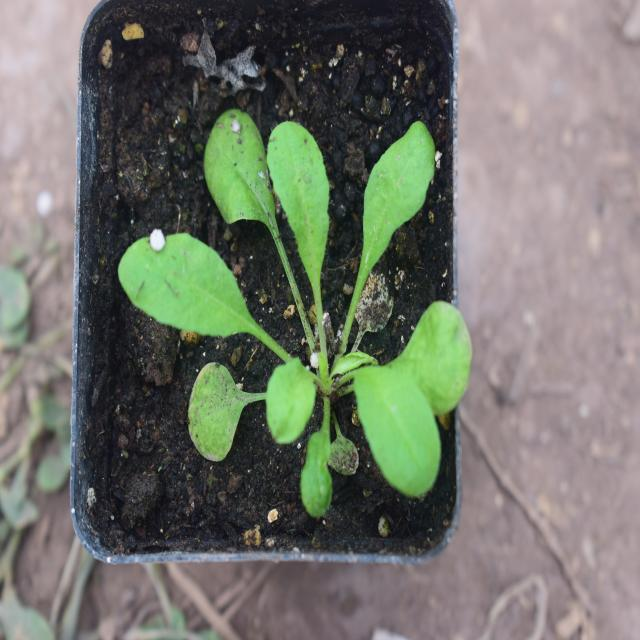Shepherd_Purse: (134, 118, 470, 514)
